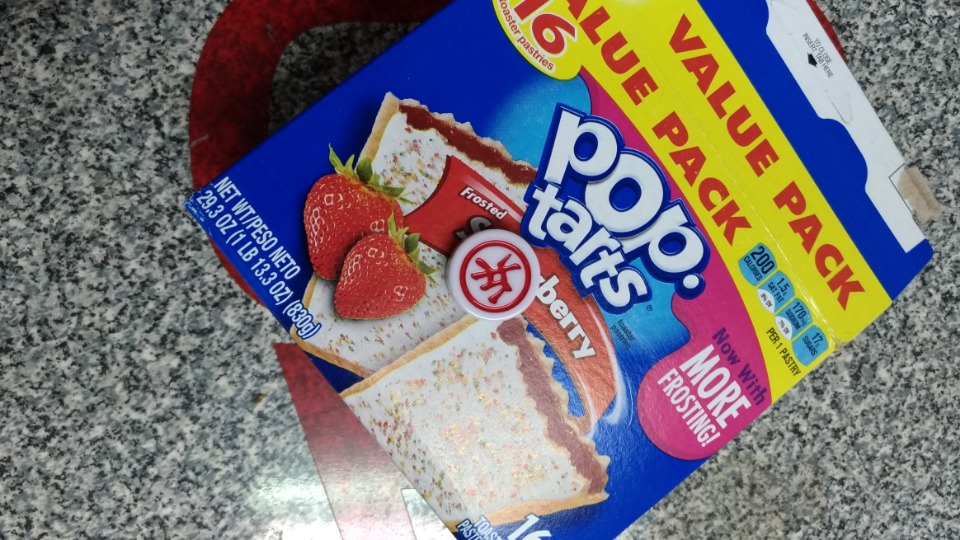r-pawn: (444, 228, 553, 326)
